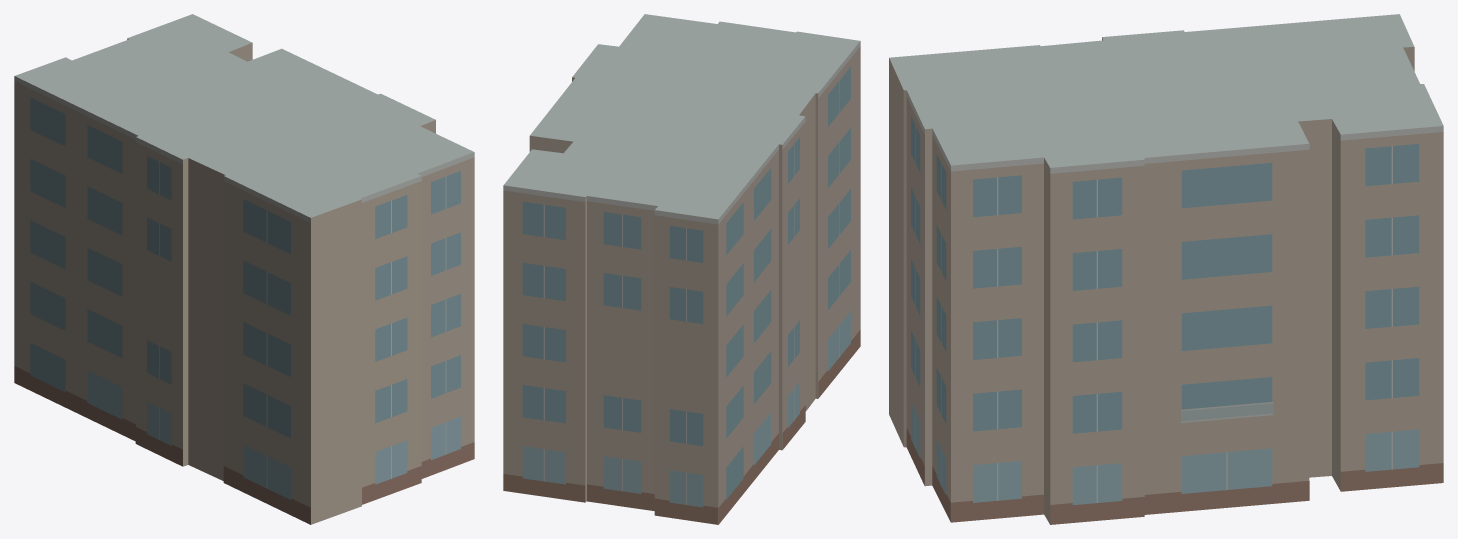
Rendered from survey-upis-32871250.glb.
3 renders of one model, left to right at view 1: azimuth 30°, elevation 25°; view 2: azimuth 150°, elevation 25°; view 3: azimuth 270°, elevation 25°, orthographic. The views are drawn at different scales.
Parts seen in each view (by area): view 1: survey-upis-32871250.tmp; view 2: survey-upis-32871250.tmp; view 3: survey-upis-32871250.tmp.
Part boxes in pixels (x1,y1,x2,y2): survey-upis-32871250.tmp: (14,14,474,524); survey-upis-32871250.tmp: (503,14,860,524); survey-upis-32871250.tmp: (889,14,1443,524).
Bounding box in the file's own units: 13.51 × 14.6 × 20.57.
